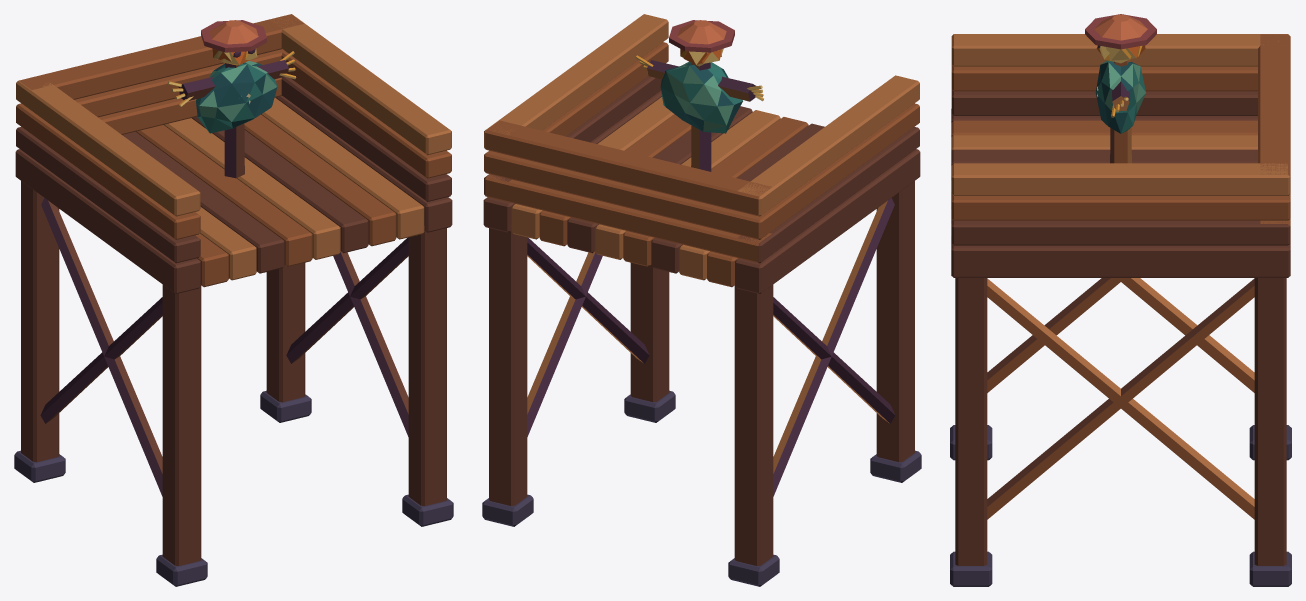
The model's file is grove_tower.glb.
3 renders of one model, left to right at view 1: azimuth 30°, elevation 25°; view 2: azimuth 150°, elevation 25°; view 3: azimuth 270°, elevation 25°, orthographic. The views are drawn at different scales.
Visible parts, largest first — view 1: grove_tower; view 2: grove_tower; view 3: grove_tower.
Boxes of the visible parts, x1,y1,x2,y2 form: grove_tower: [14, 14, 453, 586]; grove_tower: [482, 14, 921, 586]; grove_tower: [950, 14, 1291, 586].
Size of the model in its own units: 5.02 by 8.07 by 5.02.
